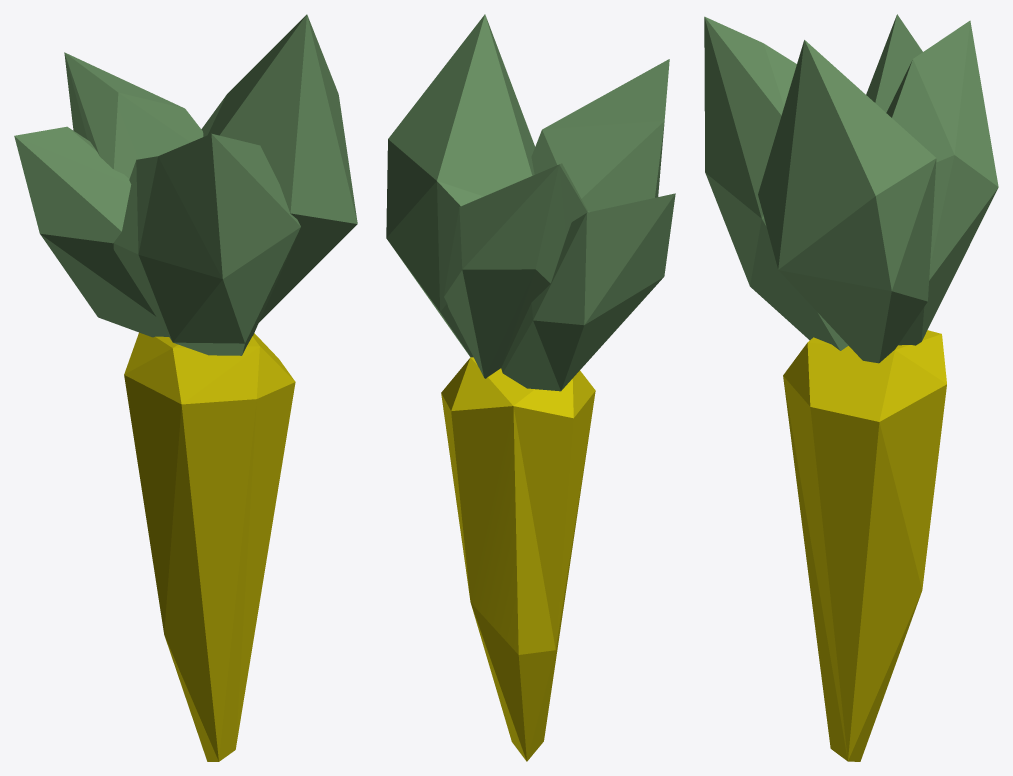
The model's file is item_carrot.glb.
3 renders of one model, left to right at view 1: azimuth 30°, elevation 25°; view 2: azimuth 150°, elevation 25°; view 3: azimuth 270°, elevation 25°, orthographic. The views are drawn at different scales.
Parts seen in each view (by area): view 1: Carrot_submesh_0, Carrot_submesh_1; view 2: Carrot_submesh_0, Carrot_submesh_1; view 3: Carrot_submesh_0, Carrot_submesh_1.
Part boxes in pixels (<box>): Carrot_submesh_0: <box>14,14,357,355</box>; Carrot_submesh_1: <box>124,332,295,761</box>; Carrot_submesh_0: <box>386,14,675,391</box>; Carrot_submesh_1: <box>441,357,595,761</box>; Carrot_submesh_0: <box>704,14,998,363</box>; Carrot_submesh_1: <box>783,330,946,761</box>.
Size of the model in its own units: 0.15 by 0.3429 by 0.1207.
